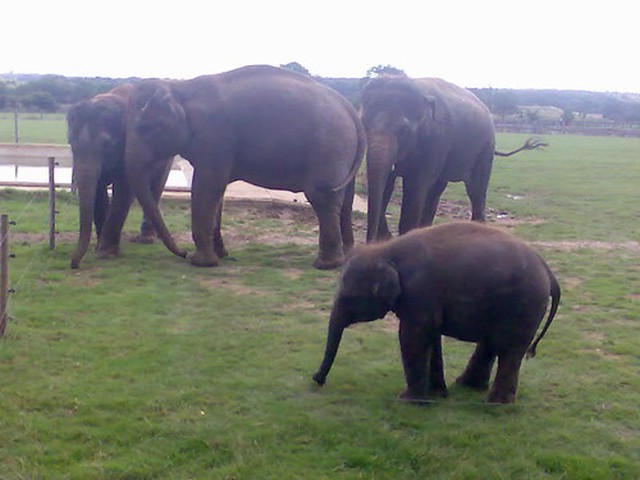Elephant: (60, 64, 548, 250), (308, 220, 567, 408)
